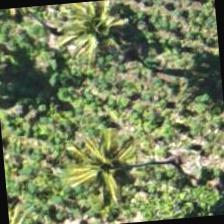Kelapa_Sawit: (53, 126, 152, 223), (44, 0, 141, 74), (6, 179, 78, 223)
